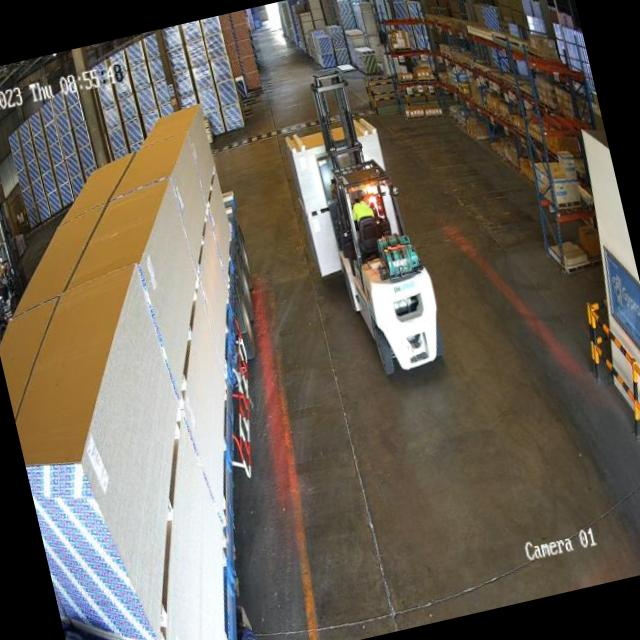driver: (348, 188, 377, 230), (0, 257, 11, 288)
forklift: (317, 143, 457, 392), (0, 239, 23, 305)
